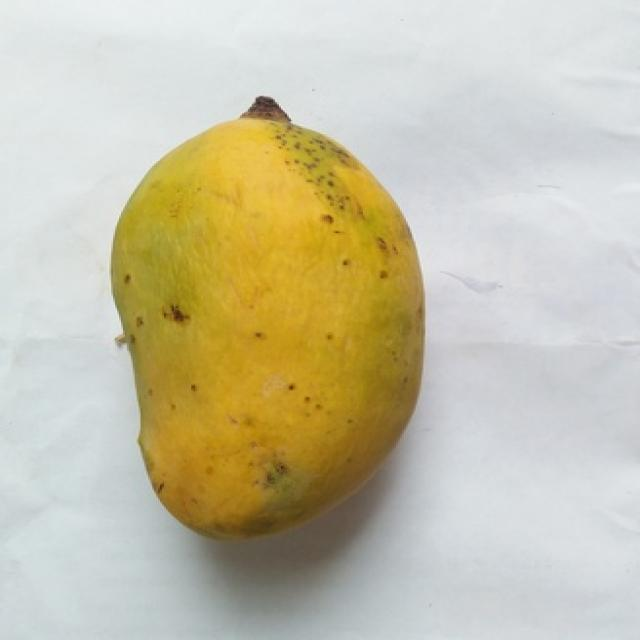Mango: (111, 97, 423, 535)
